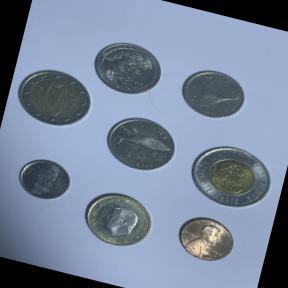coin: (179, 134, 282, 222), (5, 60, 98, 139), (72, 182, 163, 258), (97, 106, 185, 182), (84, 33, 170, 104), (169, 207, 243, 270), (11, 150, 78, 207)
